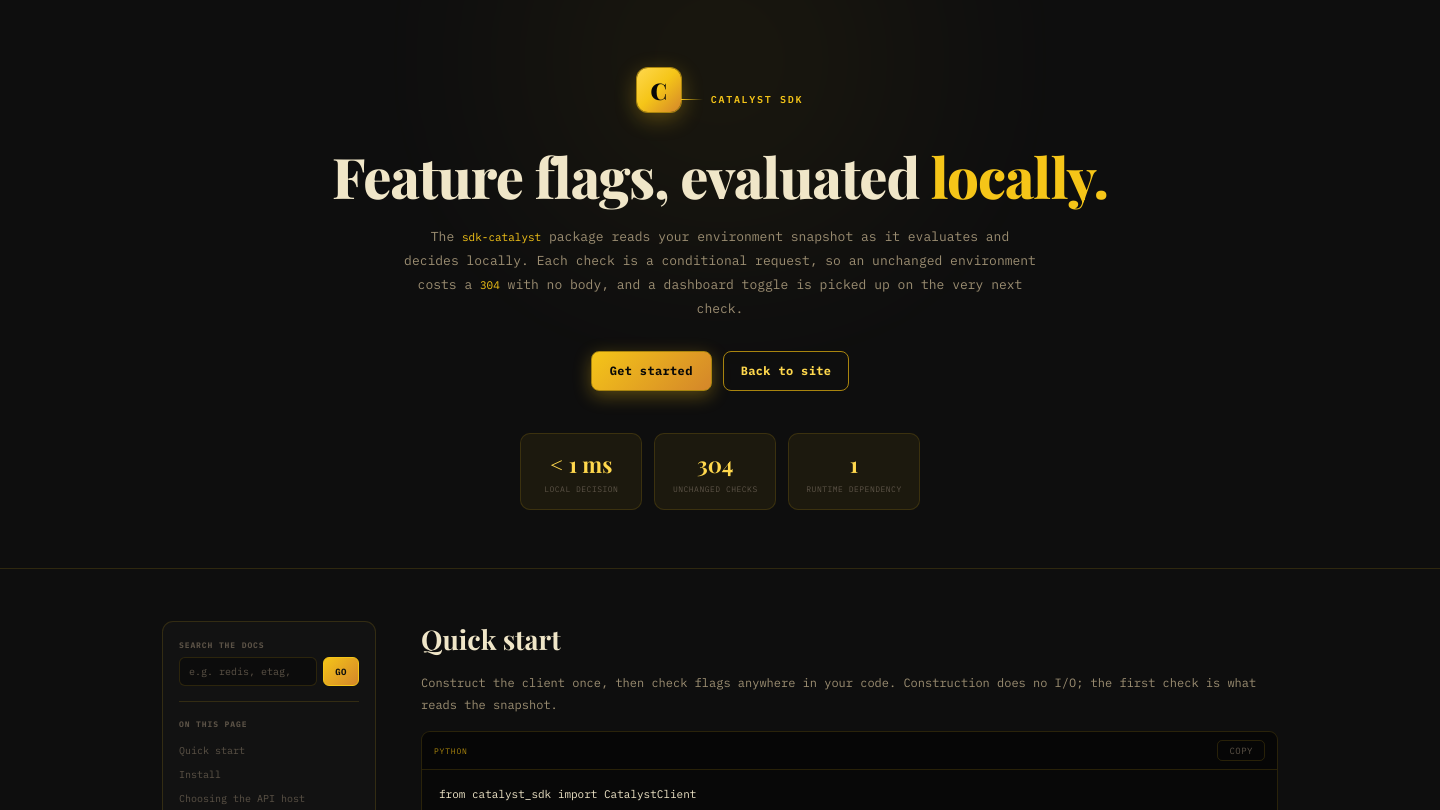
Test: DocsPage search › narrows the list to the matching sections
Type "redis" into the search field. click: (248, 672)
box: [179,657,317,686]
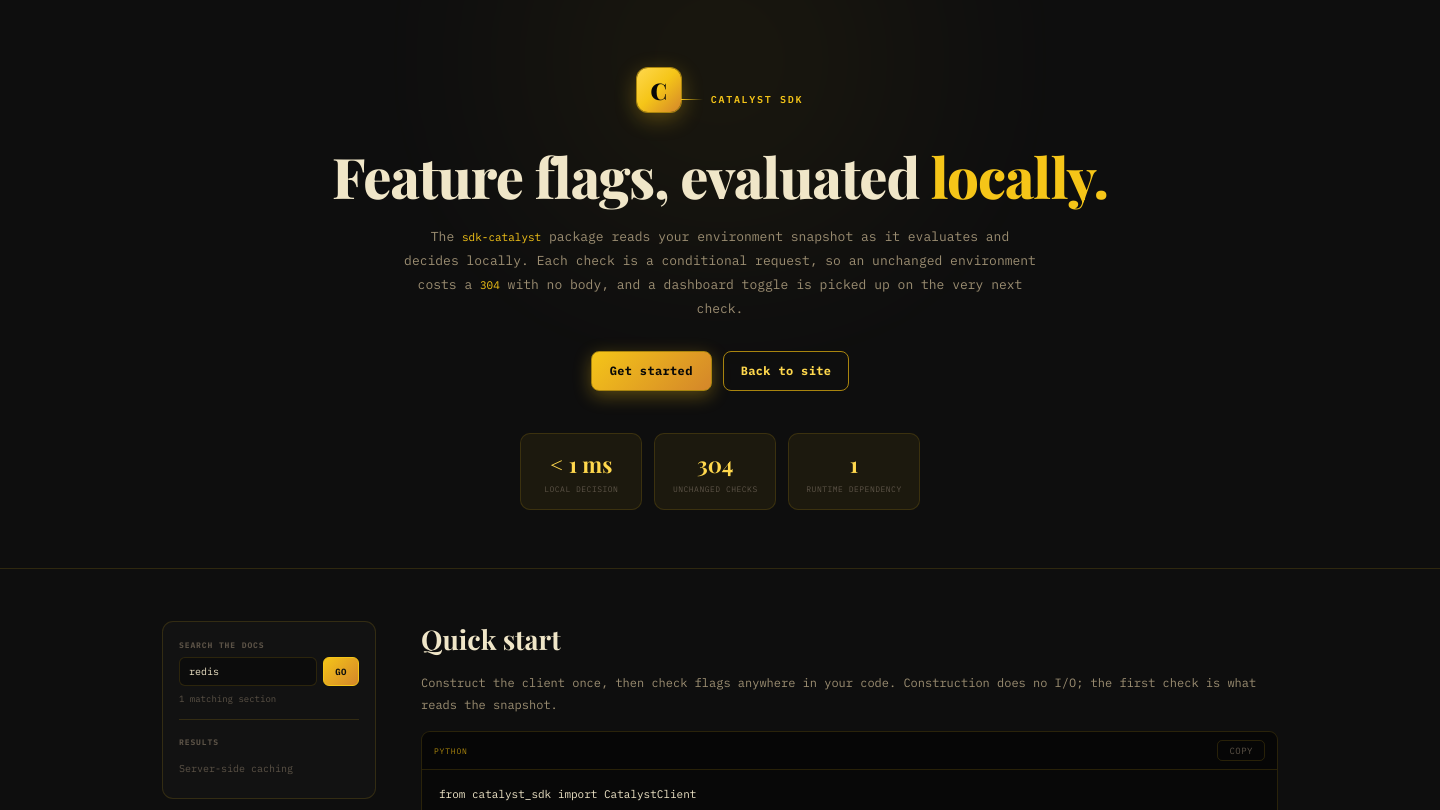
Result: the text "1 matching section" is shown at [179,693,276,704]
